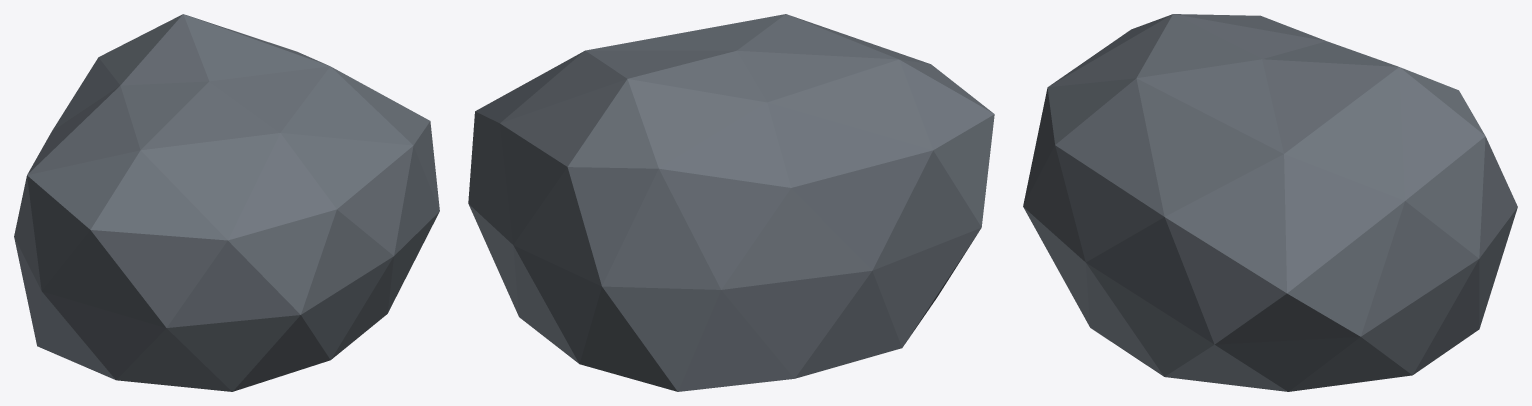
The model's file is Stone_06.fbx.
The picture shows the model from 3 angles, left to right: view 1: azimuth 30°, elevation 25°; view 2: azimuth 150°, elevation 25°; view 3: azimuth 270°, elevation 25°; orthographic projection. The views are drawn at different scales.
Visible parts, largest first — view 1: Stone_06; view 2: Stone_06; view 3: Stone_06.
Boxes of the visible parts, bbox=[...] form: Stone_06: bbox=[14, 14, 439, 391]; Stone_06: bbox=[468, 14, 994, 391]; Stone_06: bbox=[1023, 14, 1517, 391].
Size of the model in its own units: 25.78 by 13.95 by 23.9.
